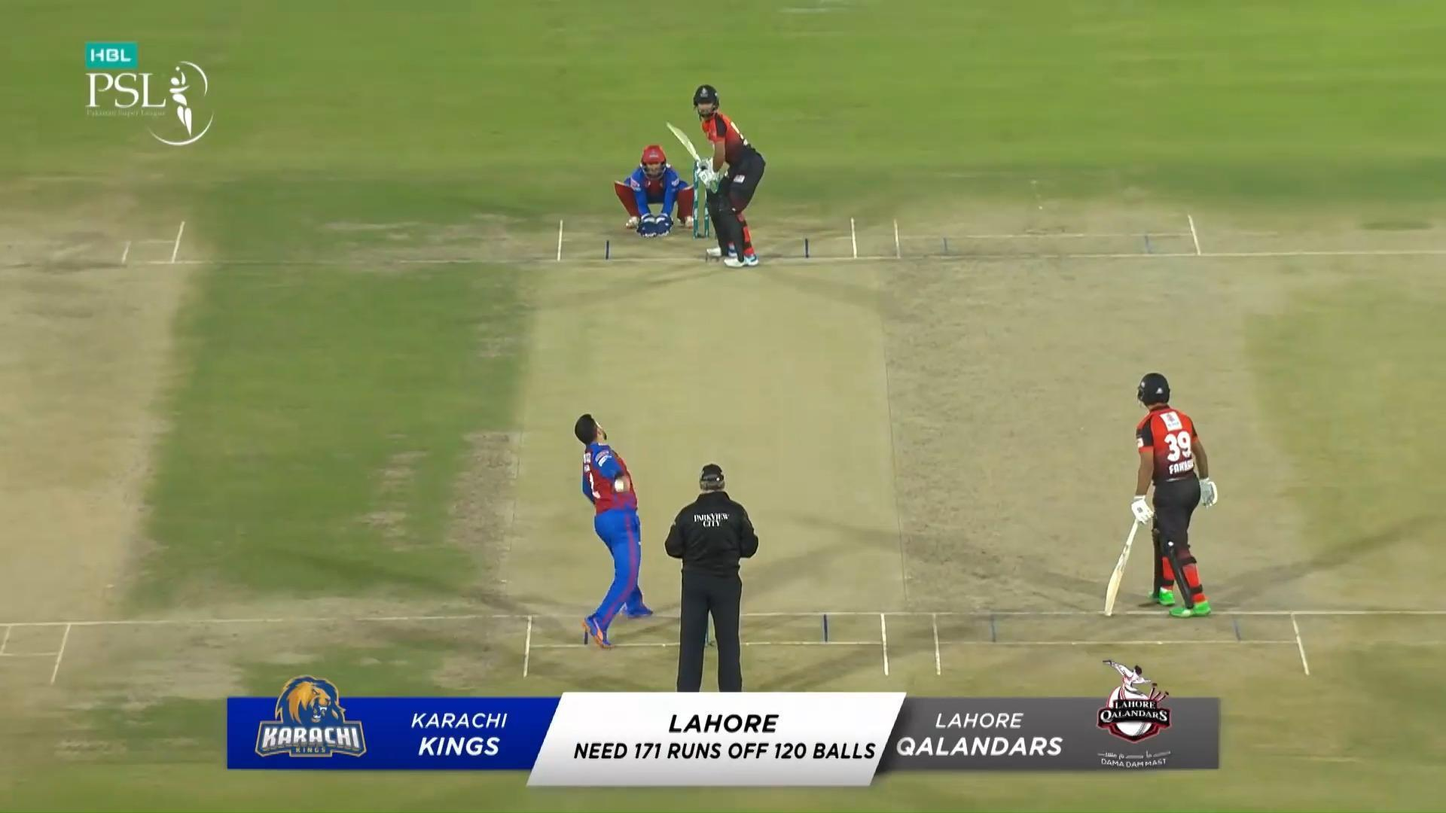BM 1: (665, 82, 766, 268)
BO: (573, 412, 656, 652)
